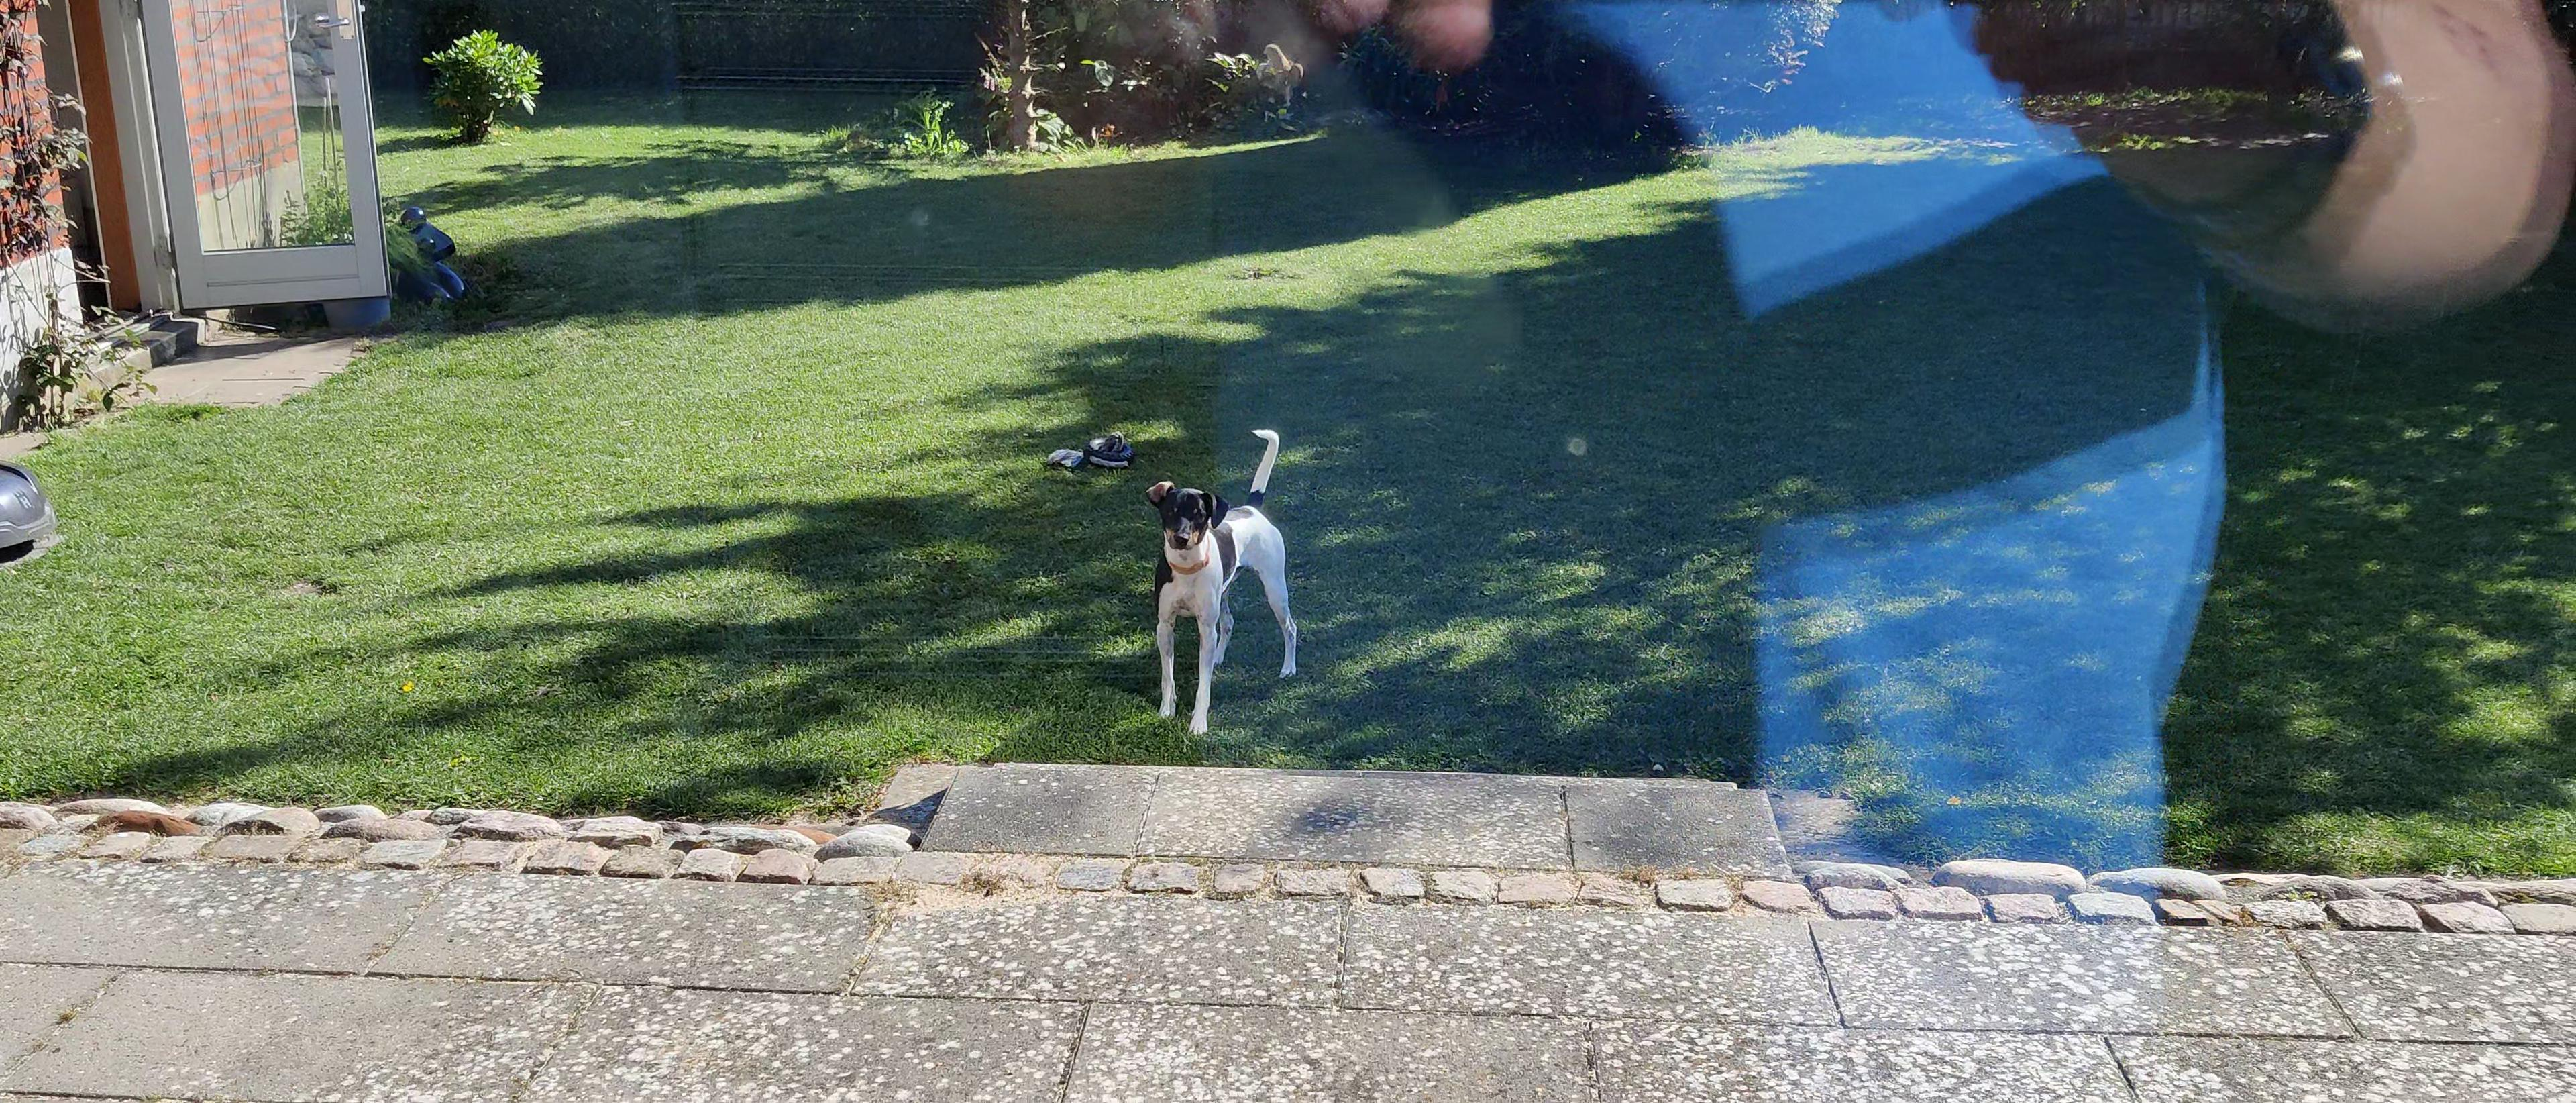Dog: (1140, 426, 1298, 746)
